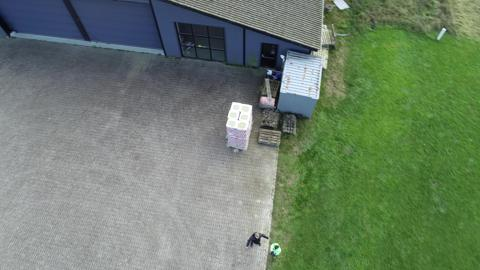RockwoolPallet: (226, 102, 253, 151)
